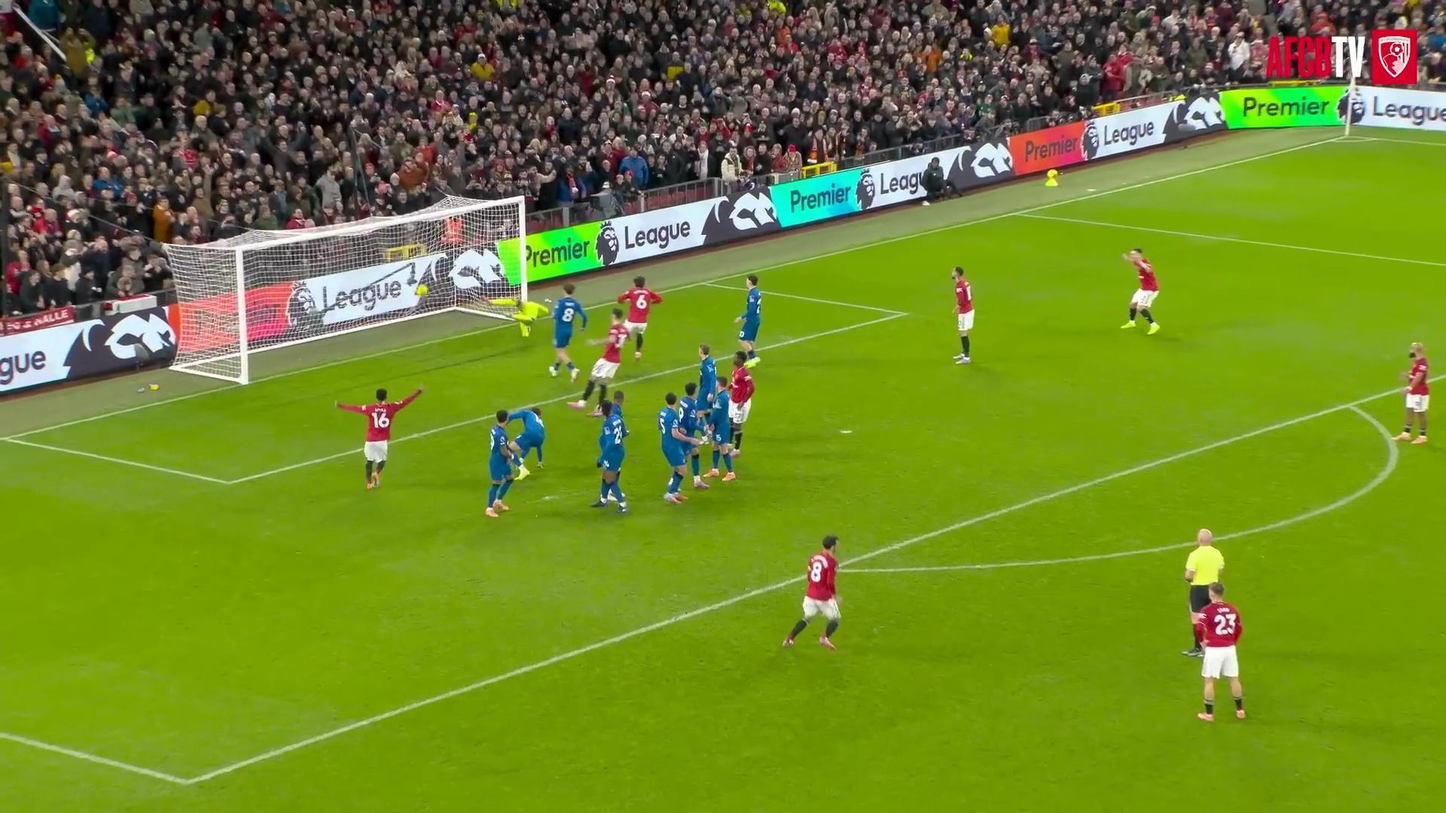football: (411, 279, 435, 305)
player: (336, 387, 422, 489), (782, 534, 840, 649), (1197, 582, 1245, 720), (569, 309, 627, 416), (657, 392, 697, 503), (592, 402, 627, 513), (618, 276, 662, 360), (550, 283, 587, 380), (1395, 342, 1429, 443), (1121, 248, 1159, 333), (703, 382, 735, 481), (679, 382, 708, 489), (485, 410, 513, 516), (728, 351, 754, 455), (509, 406, 545, 478), (488, 297, 550, 336), (735, 274, 761, 367), (952, 266, 975, 364), (698, 343, 716, 419), (611, 389, 624, 420), (612, 390, 624, 417)
referee: (1182, 528, 1224, 656)
